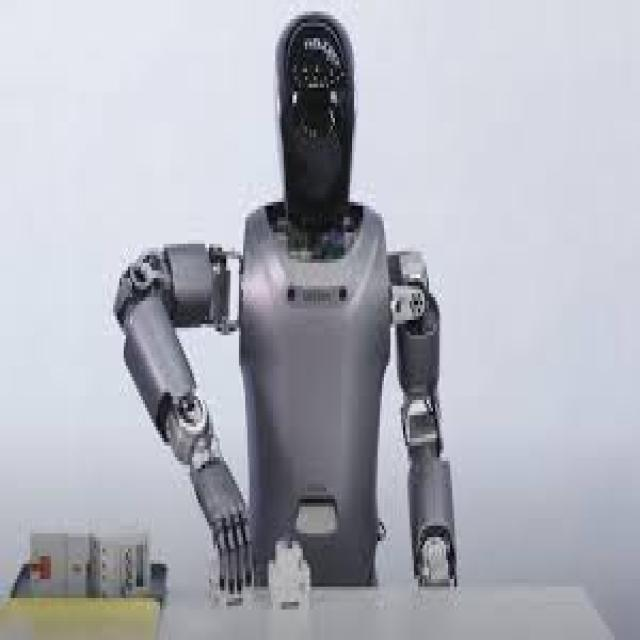humanoid-arm: (123, 308, 261, 618)
